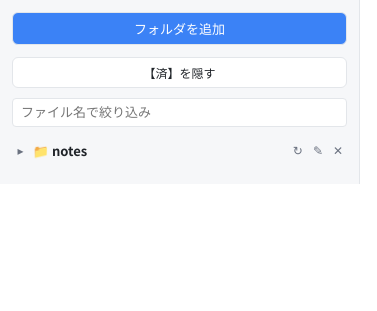
Test: Sidebar › 全選択チェックボックスで未済ファイルをすべて選択し「N件選択中」を表示する
Click the button named "notes を展開する": (20, 150) [12,142,29,160]
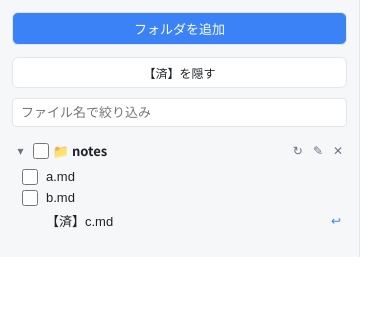
Click the checkbox named "notes のファイルをすべて選択": (41, 150) [33,142,49,158]
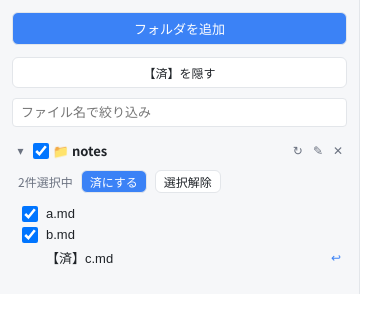
Check: the text "2件選択中" is shown, box [18,173,73,190]
Check: the checkbox named "a.md を選択" is checked, box [22,206,38,222]
Check: the checkbox named "b.md を選択" is checked, box [22,226,38,242]
